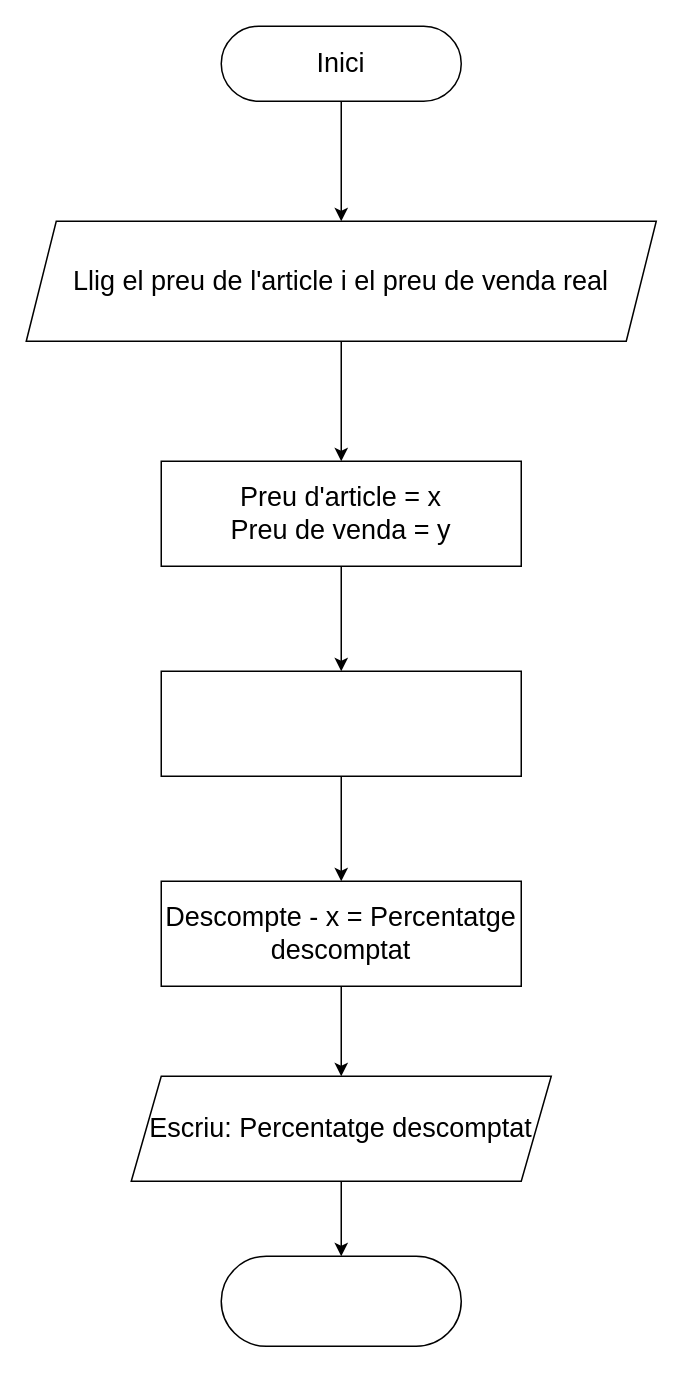
The diagram is 683 pixels wide and 1373 high, and some of its shapes have lost their labels. The centre of each missing label's shape, as x and y in pixels:
"Calcular el descompte: (x/y) * 100" goes at pixel 340 723.
"FI" goes at pixel 340 1300.
